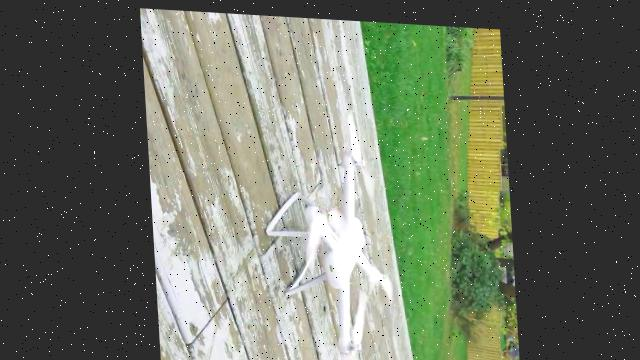drone: (236, 93, 408, 360)
